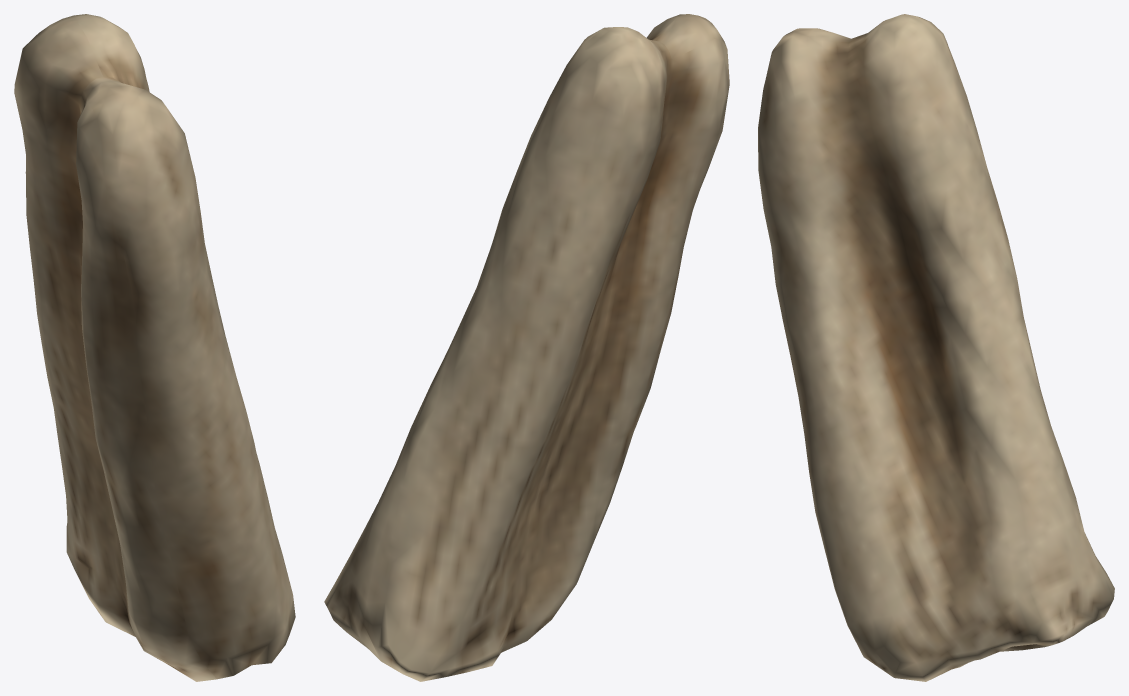
File: Maxilary_Molar3.glb
The picture shows the model from 3 angles, left to right: view 1: azimuth 30°, elevation 25°; view 2: azimuth 150°, elevation 25°; view 3: azimuth 270°, elevation 25°; orthographic projection. The views are drawn at different scales.
Visible parts, largest first — view 1: ZBrush_defualt_group_Mesh.023; view 2: ZBrush_defualt_group_Mesh.023; view 3: ZBrush_defualt_group_Mesh.023.
Part boxes in pixels (box(x1,y1,x2,y2)): ZBrush_defualt_group_Mesh.023: box(14, 14, 295, 681); ZBrush_defualt_group_Mesh.023: box(324, 14, 729, 681); ZBrush_defualt_group_Mesh.023: box(758, 14, 1114, 681).
Size of the model in its own units: 0.035 by 0.0793 by 0.0434.
1 material, 1 textured.
